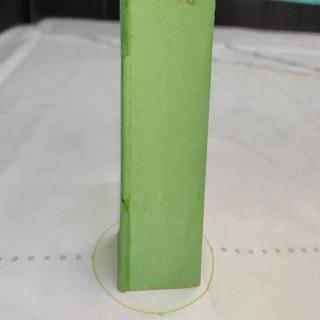greenbox: (119, 0, 216, 289)
